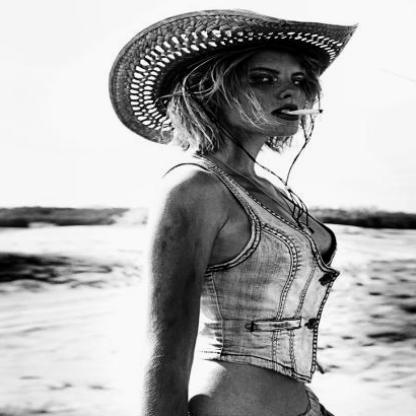cigarette: (288, 107, 326, 118)
person: (130, 26, 344, 415)
